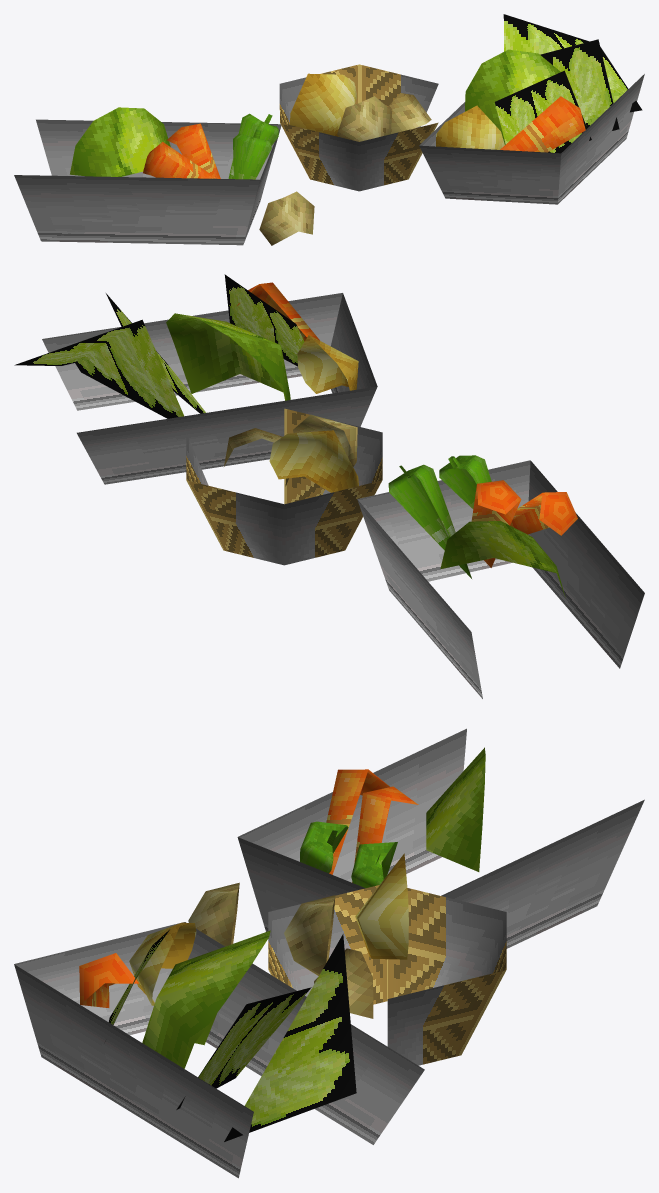
3 views of the same model, one above another, from view 1: azimuth 30°, elevation 25°; view 2: azimuth 150°, elevation 25°; view 3: azimuth 270°, elevation 25° (orthographic). The views are drawn at different scales.
Parts seen in each view (by area): view 1: 1064item535; view 2: 1064item535; view 3: 1064item535.
Boxes of the visible parts, bbox=[...] form: 1064item535: bbox=[14, 14, 644, 245]; 1064item535: bbox=[14, 274, 644, 698]; 1064item535: bbox=[14, 728, 644, 1178].
Bounding box in the file's own units: 2.52 × 0.6775 × 1.64.
Materials: 7 (7 with a texture image).
